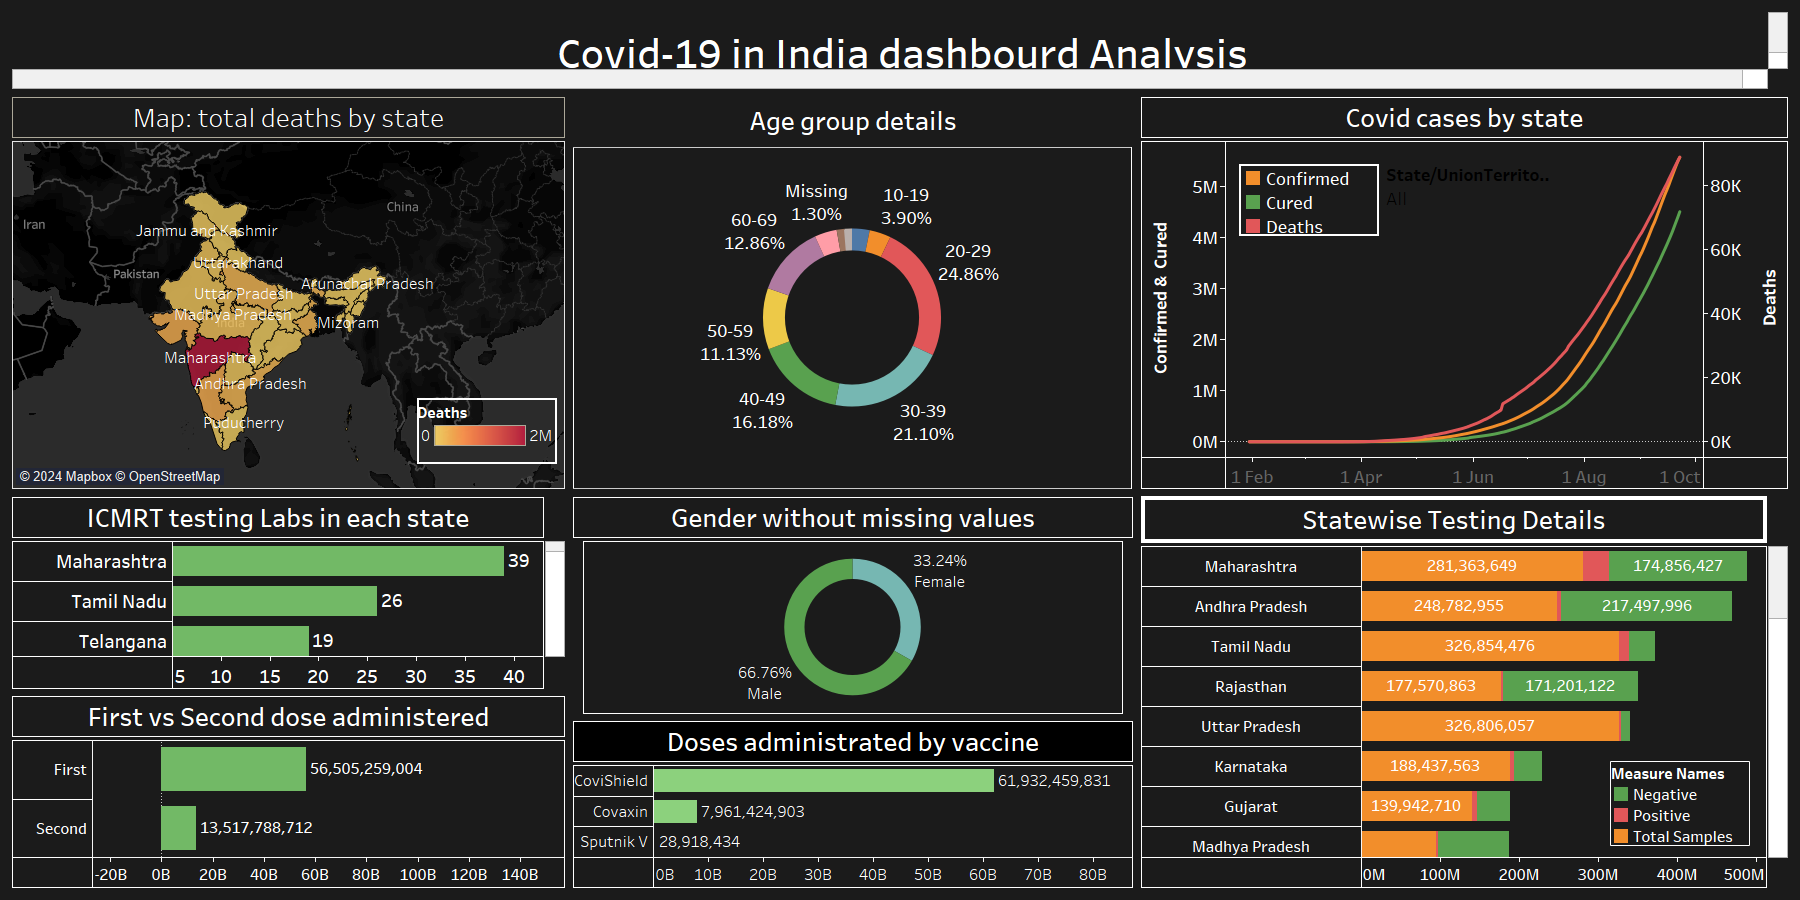

The dashboard page shown, as its layout file describes it:
{"tool":"tableau","page":{"name":"Dashboard 1","canvas":[1800,900],"ordinal":0},"visuals":[{"type":"worksheet","title":"Title","mark":"Automatic","box":[8,8,1784,85]},{"type":"worksheet","title":"Map: total deaths by state","mark":"Automatic","box":[8,93,561,399.5]},{"type":"worksheet","title":"Age group details","mark":"Pie","rows":["Calculation_515943642833506305","Calculation_515943642833580035"],"box":[569,93,568,399.5]},{"type":"worksheet","title":"Covid cases by state","mark":"Automatic","rows":["Deaths"],"cols":["Date"],"box":[1137,93,655,399.5]},{"type":"filter","title":"Covid cases by state","param":"[federated.0n66gfu0v75mt010i5t8b0v94nia].[none:State/UnionTerritory:nk]","box":[1384,162,168,63]},{"type":"legend","title":"Covid cases by state","param":"[federated.0n66gfu0v75mt010i5t8b0v94nia].[:Measure Names]","box":[1239,164,140,72]},{"type":"legend","title":"Map: total deaths by state","param":"[federated.0n66gfu0v75mt010i5t8b0v94nia].[sum:Deaths:qk]","box":[417,398,140,81]},{"type":"worksheet","title":"ICMRT testing Labs in each state","mark":"Automatic","rows":["state"],"cols":["lab"],"box":[8,492.5,561,199.7]},{"type":"worksheet","title":"Gender without missing values","mark":"Pie","rows":["Calculation_515943642840248325","Calculation_515943642840260615"],"box":[569,492.5,568,224.5]},{"type":"worksheet","title":"Statewise Testing Details","mark":"Automatic","rows":["State"],"box":[1137,492.5,655,399.5]},{"type":"worksheet","title":"First vs Second dose administered","mark":"Automatic","box":[8,692.2,561,199.8]},{"type":"worksheet","title":"Doses administrated by vaccine","mark":"Automatic","box":[569,717,568,175]},{"type":"legend","title":"Statewise Testing Details","param":"[federated.1shsael1atg87f15cslue17fohid].[:Measure Names]","box":[1610,761,140,85]}]}

Visuals, with their boxes in screenshot pixels (x1, y1, x2, y2), scaled from the page's 1800x900 canvas onto the 1800x900 screenshot:
"Title" worksheet: Rect(8, 8, 1792, 93)
"Map: total deaths by state" worksheet: Rect(8, 93, 569, 492)
"Age group details" worksheet (Pie marks): Rect(569, 93, 1137, 492)
"Covid cases by state" worksheet: Rect(1137, 93, 1792, 492)
"Covid cases by state" filter: Rect(1384, 162, 1552, 225)
"Covid cases by state" legend: Rect(1239, 164, 1379, 236)
"Map: total deaths by state" legend: Rect(417, 398, 557, 479)
"ICMRT testing Labs in each state" worksheet: Rect(8, 492, 569, 692)
"Gender without missing values" worksheet (Pie marks): Rect(569, 492, 1137, 717)
"Statewise Testing Details" worksheet: Rect(1137, 492, 1792, 892)
"First vs Second dose administered" worksheet: Rect(8, 692, 569, 892)
"Doses administrated by vaccine" worksheet: Rect(569, 717, 1137, 892)
"Statewise Testing Details" legend: Rect(1610, 761, 1750, 846)
